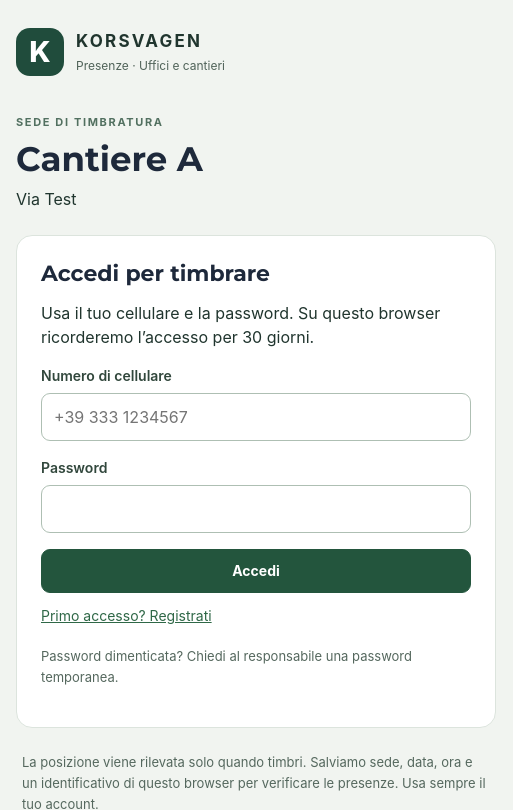
Test: registration includes all required profile fields and explains activation before allowing login
Click the button "Primo accesso? Registrati".
click(126, 615)  # box [41,593,212,638]
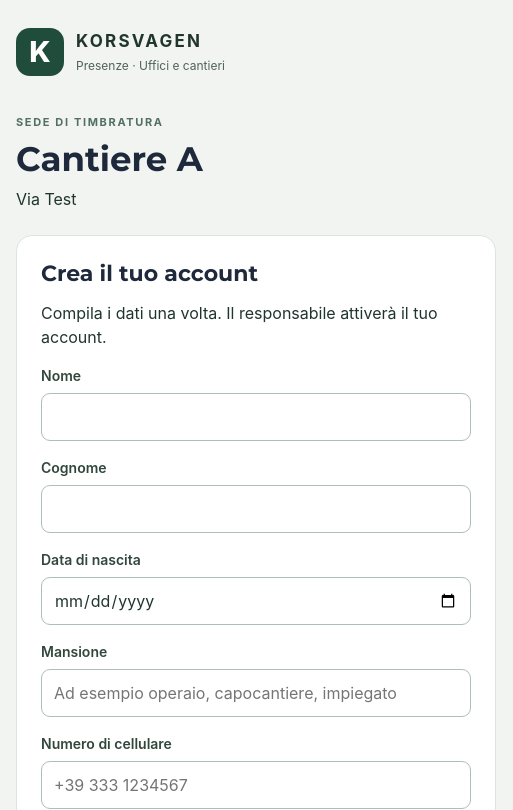
Type "Anna" into the field labelled "Nome".
click(256, 417); type("Anna")  # box [41,393,471,441]
Type "Esempio" into the field labelled "Cognome".
click(256, 509); type("Esempio")  # box [41,485,471,533]
Type "1990-01-01" into the date field labelled "Data di nascita".
click(256, 601); type("1990-01-01")  # box [41,577,471,625]
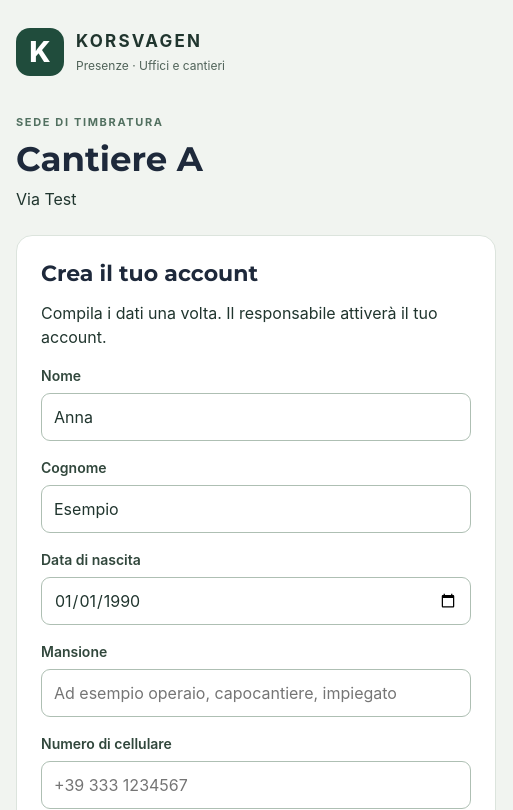
Type "Operaia" into the field labelled "Mansione".
click(256, 693); type("Operaia")  # box [41,669,471,717]
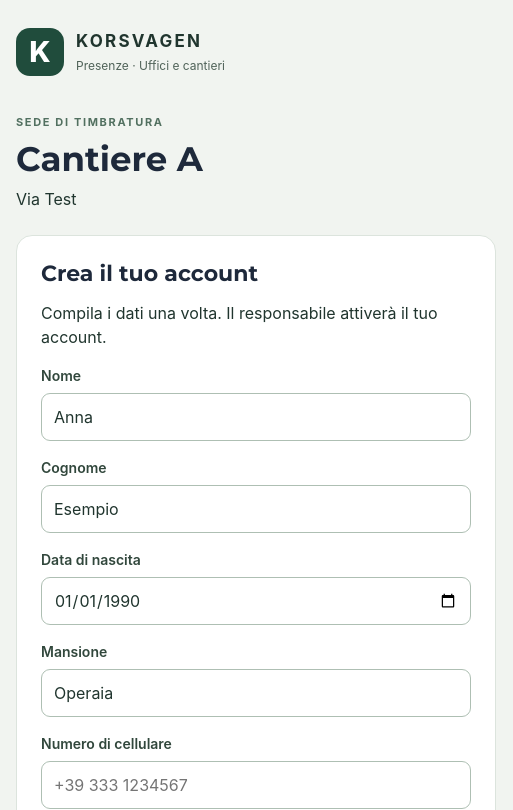
Type "3331234567" into the field labelled "Numero di cellulare".
click(256, 785); type("3331234567")  # box [41,761,471,809]
(page scrolled)
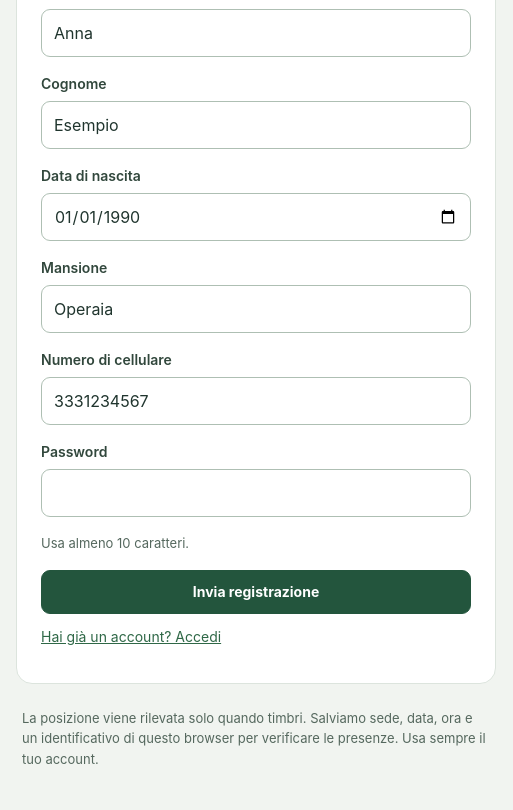
Type "PasswordSoloLocale42" into the password field labelled "Password".
click(256, 493); type("PasswordSoloLocale42")  # box [41,469,471,517]
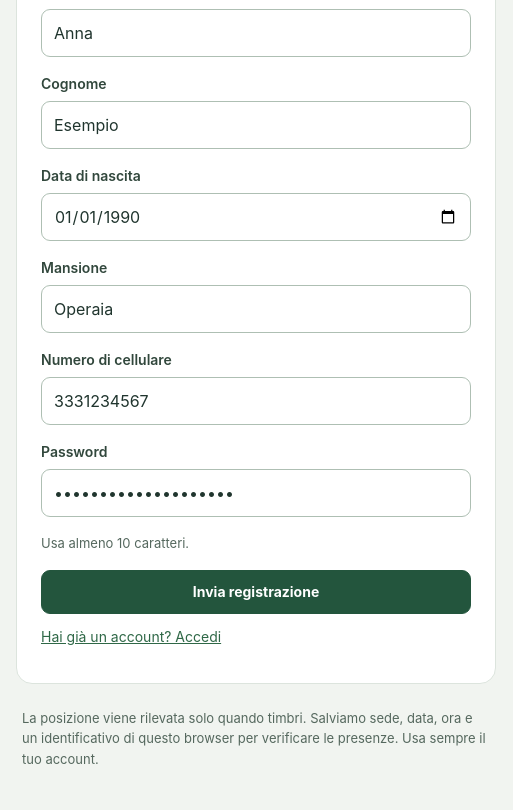
Click the button "Invia registrazione".
click(256, 592)  # box [41,570,471,614]
(page scrolled)
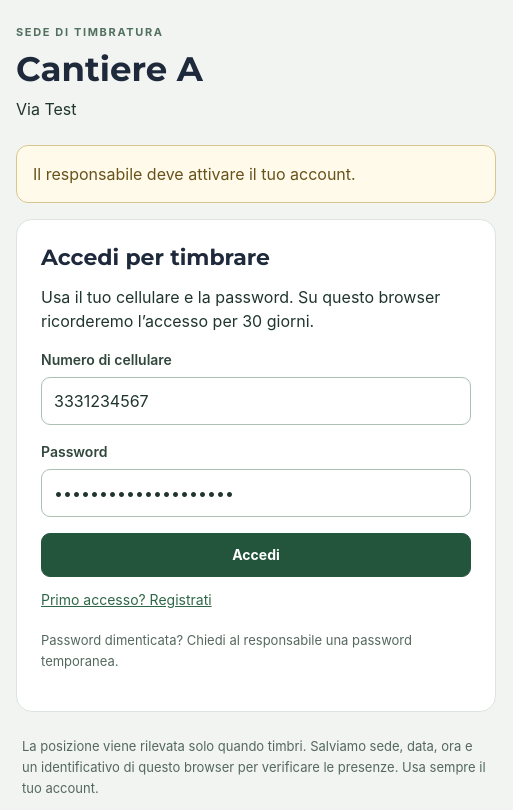
Expected: the button "Accedi" is enabled, [41,533,471,577]
Expected: the text "Il responsabile deve attivare il tuo account." is shown, [16,145,496,203]
